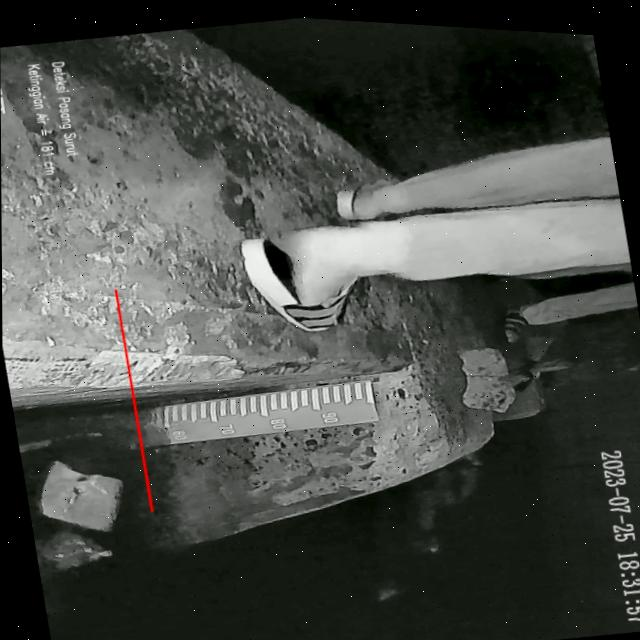water-meter: (139, 361, 386, 468)
